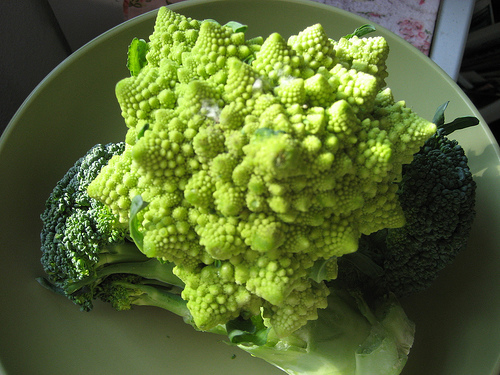broccoli: (90, 6, 443, 347)
